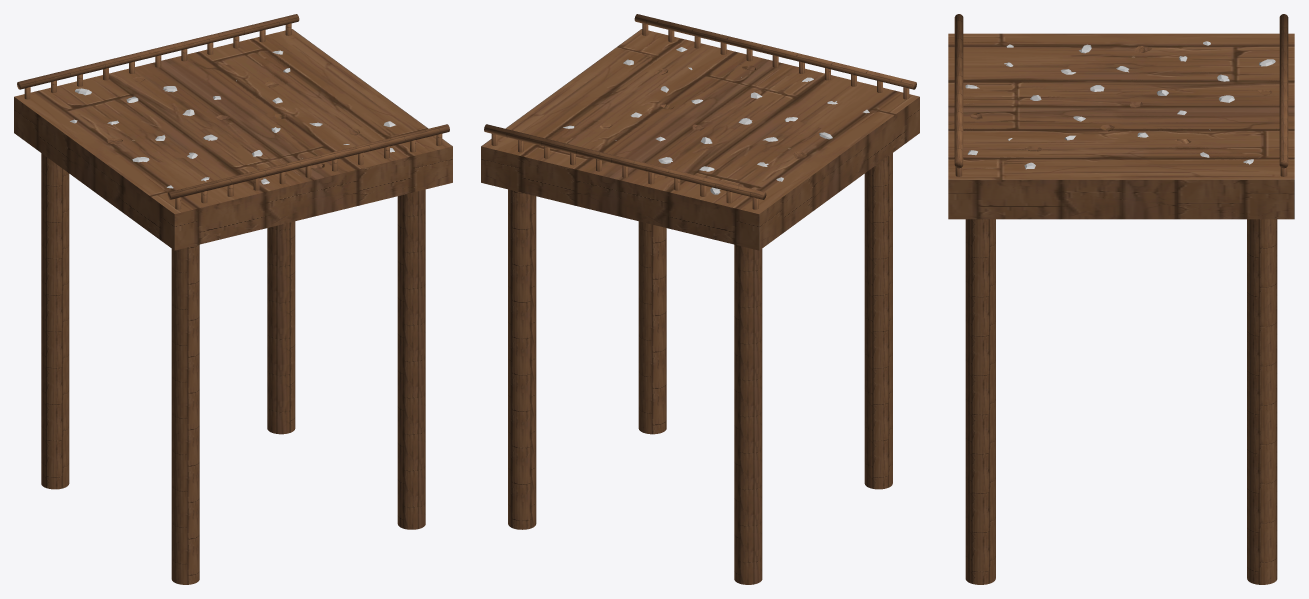
File: RoughLower16.fbx
3 views of the same model, side by side, from view 1: azimuth 30°, elevation 25°; view 2: azimuth 150°, elevation 25°; view 3: azimuth 270°, elevation 25° (orthographic). The views are drawn at different scales.
Parts seen in each view (by area): view 1: ground, pillar.004, Rocks; view 2: ground, pillar.004, Rocks; view 3: ground, pillar.004, Rocks.
Part boxes in pixels (<box>): ground: <box>14,29,452,250</box>; pillar.004: <box>17,14,449,584</box>; Rocks: <box>70,50,395,188</box>; ground: <box>481,29,919,250</box>; pillar.004: <box>484,14,916,584</box>; Rocks: <box>563,47,869,194</box>; ground: <box>948,33,1294,219</box>; pillar.004: <box>954,14,1288,584</box>; Rocks: <box>965,41,1275,169</box>.
Bounding box in the file's own units: 1600 × 2200 × 1600.
